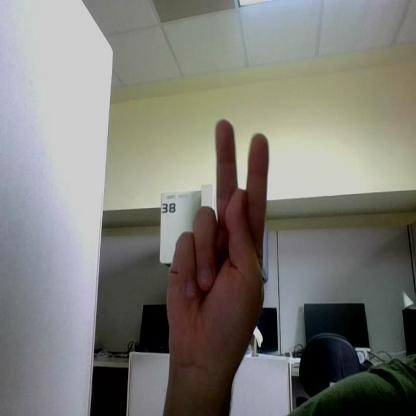K: (168, 120, 268, 358)
